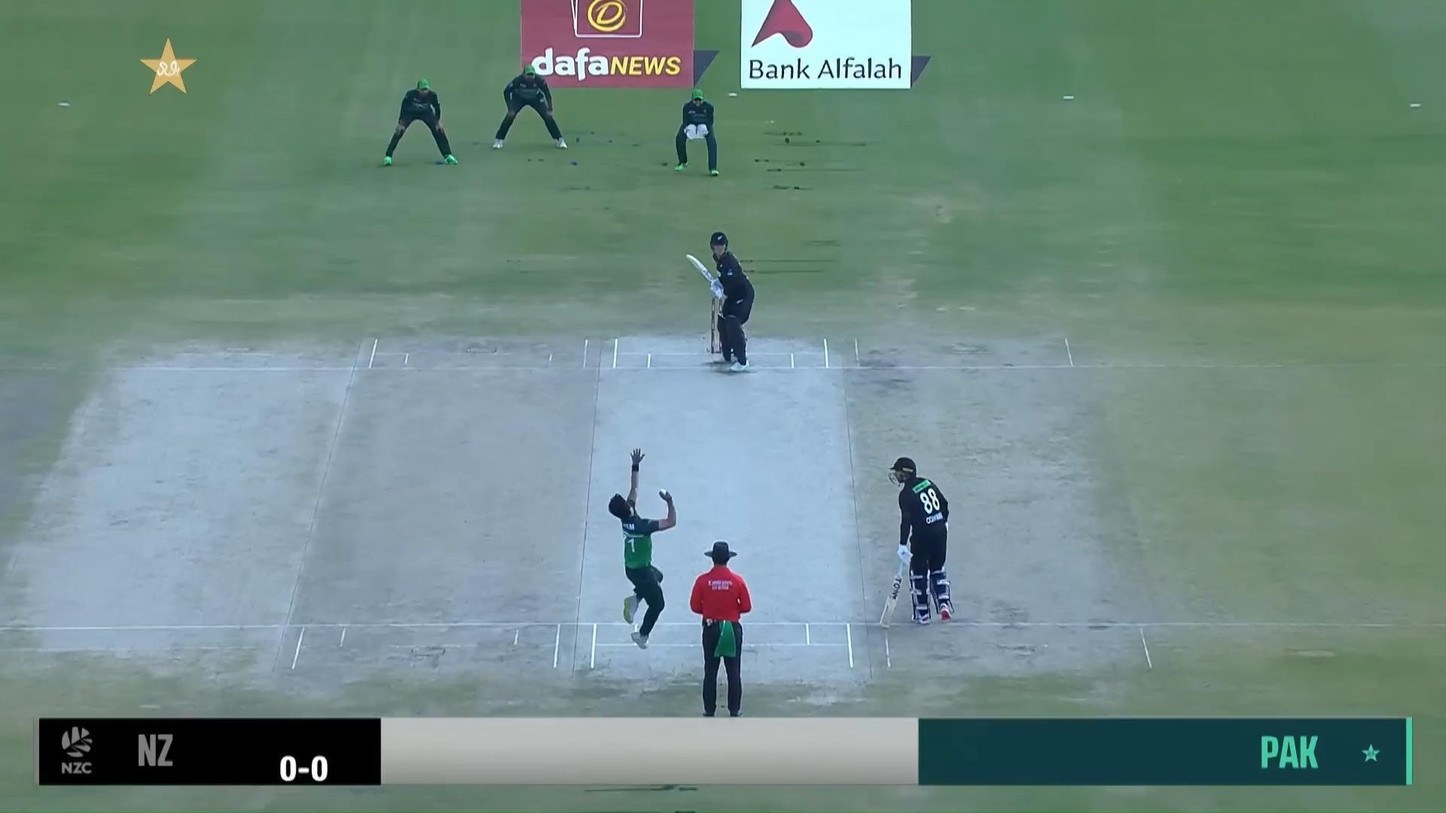BM 1: (685, 231, 755, 372)
BO: (606, 445, 680, 649)
